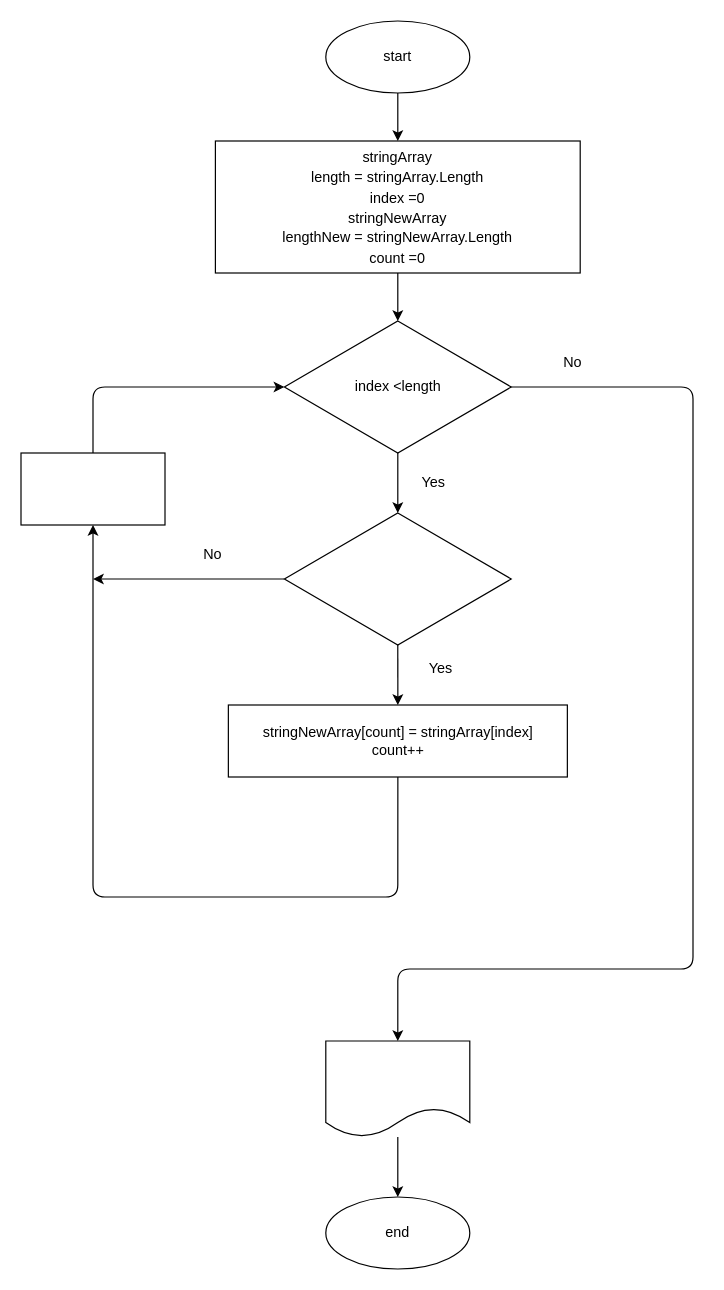
Some shapes in this 724 by 1290 pixel diagram are drawn without their labels. Here are the shapes that lost their labels. From the top down, the centre of each, then its label:
the point at 92,488: index++
the point at 397,578: length stringArray[index] <=3
the point at 397,1088: stringNewArray
